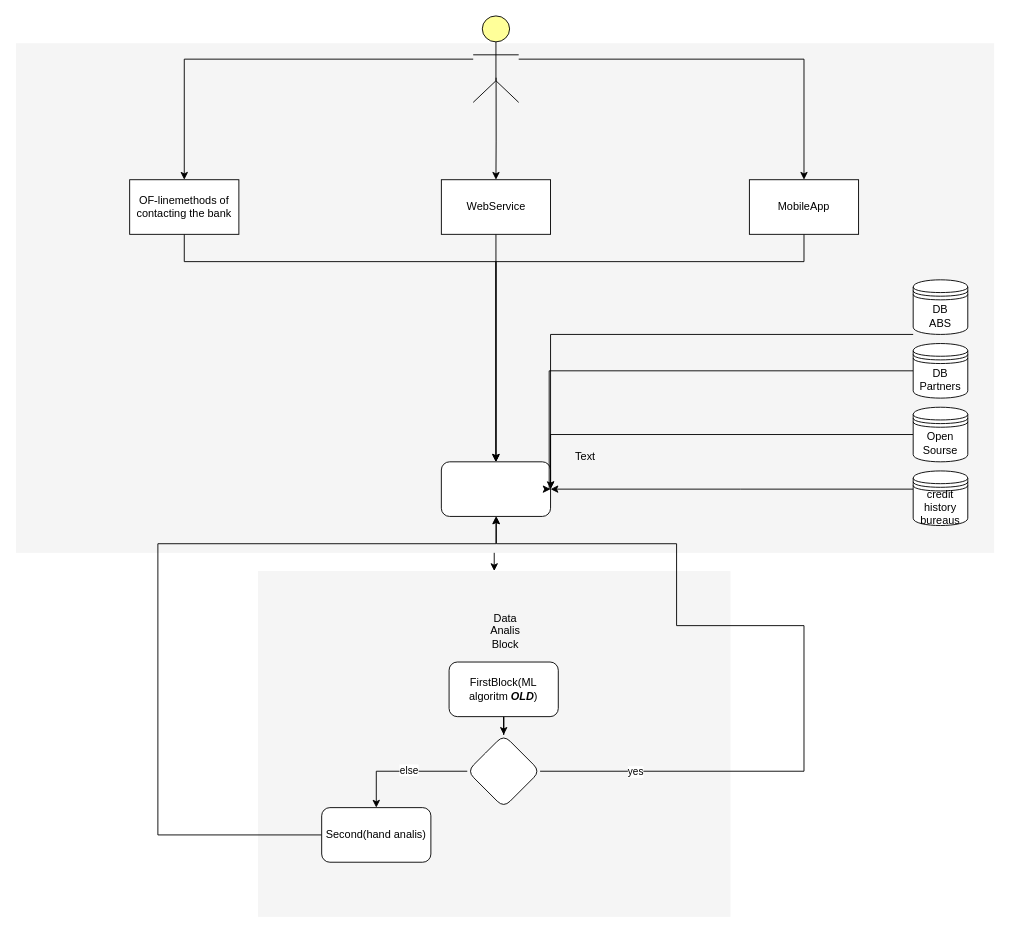
The diagram is 1009 pixels wide and 933 high, and some of its shapes have lost their labels. Each missing label, with the centre of its shape:
"decision-making block" belongs at (x=495, y=488).
"if (less(30 or bigger 70))" belongs at (x=503, y=771).
